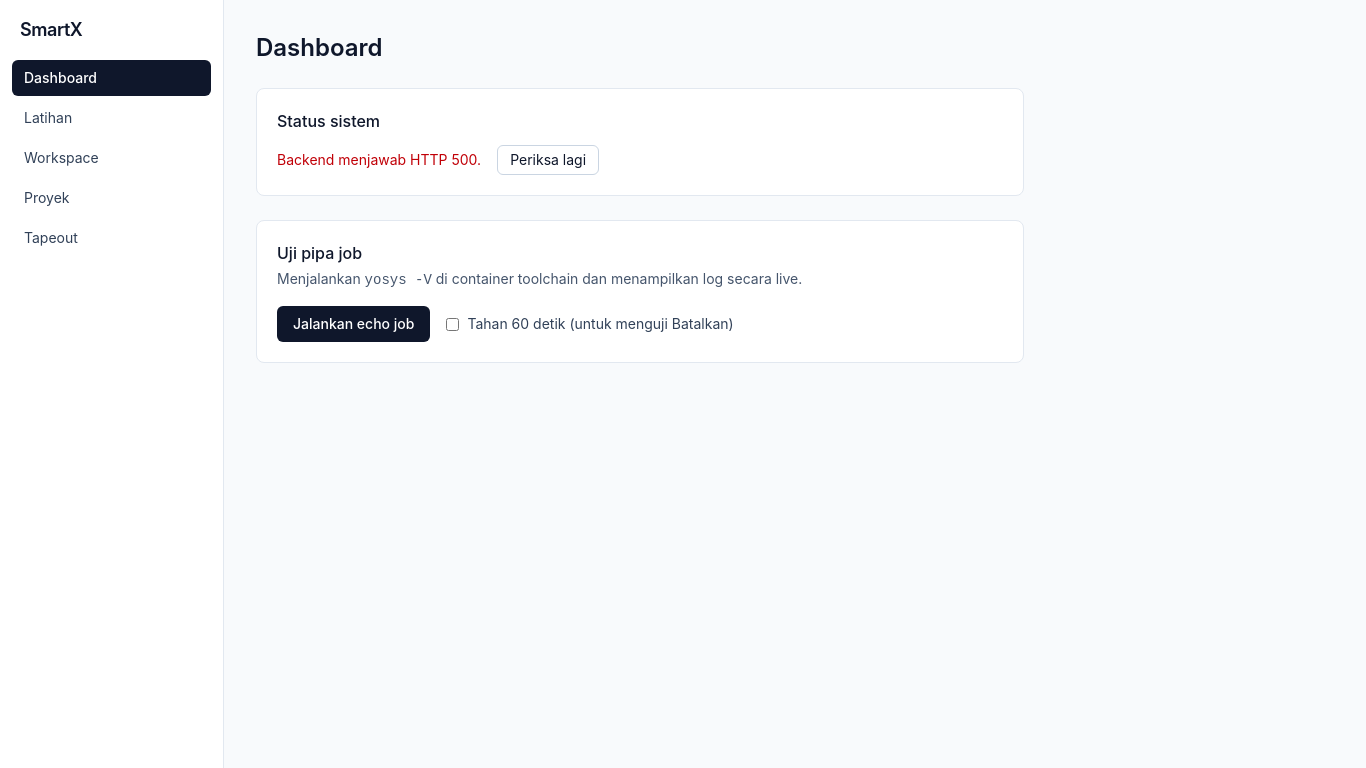
Scenario: Layout › navigates to a section
Step 1. Click the link "Latihan" → point(48, 118), box [24,109,72,126]
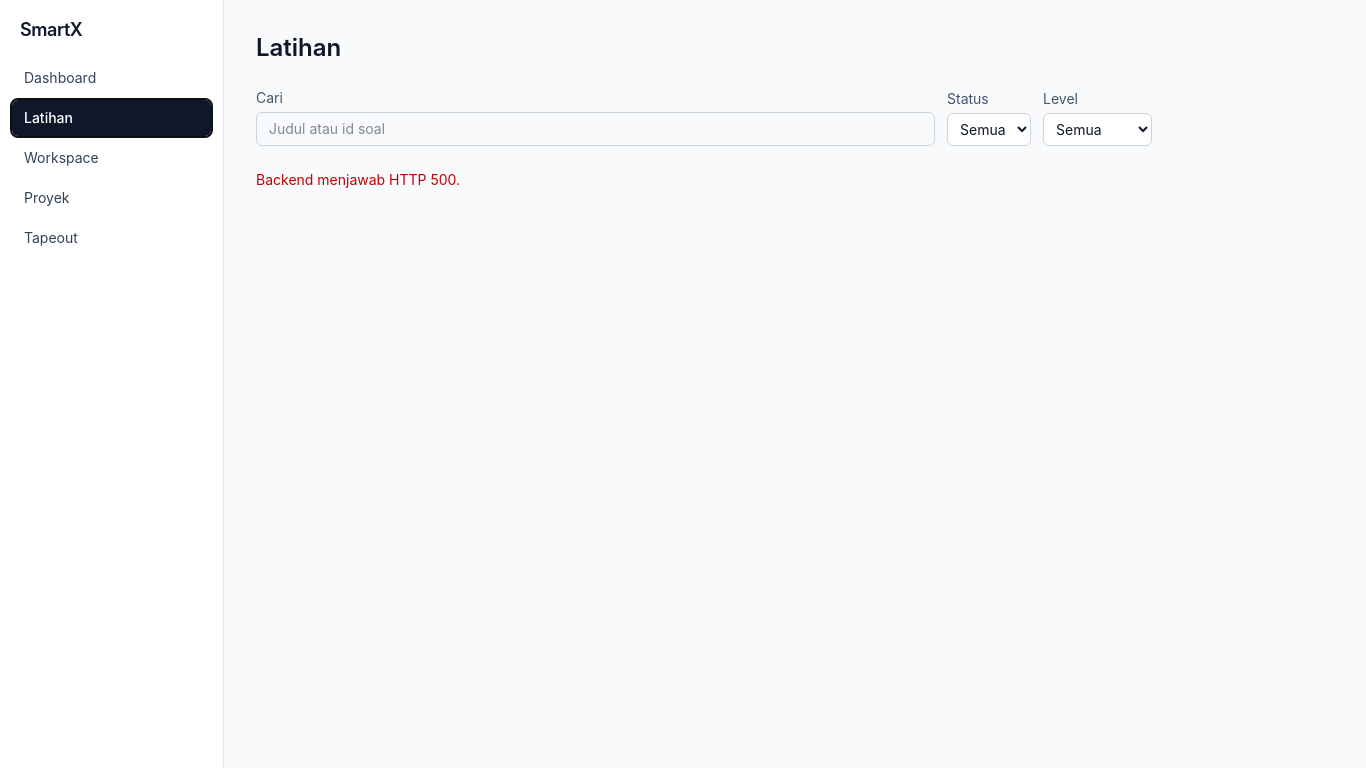
Result: the heading "Latihan" is shown at [256,32,341,64]
